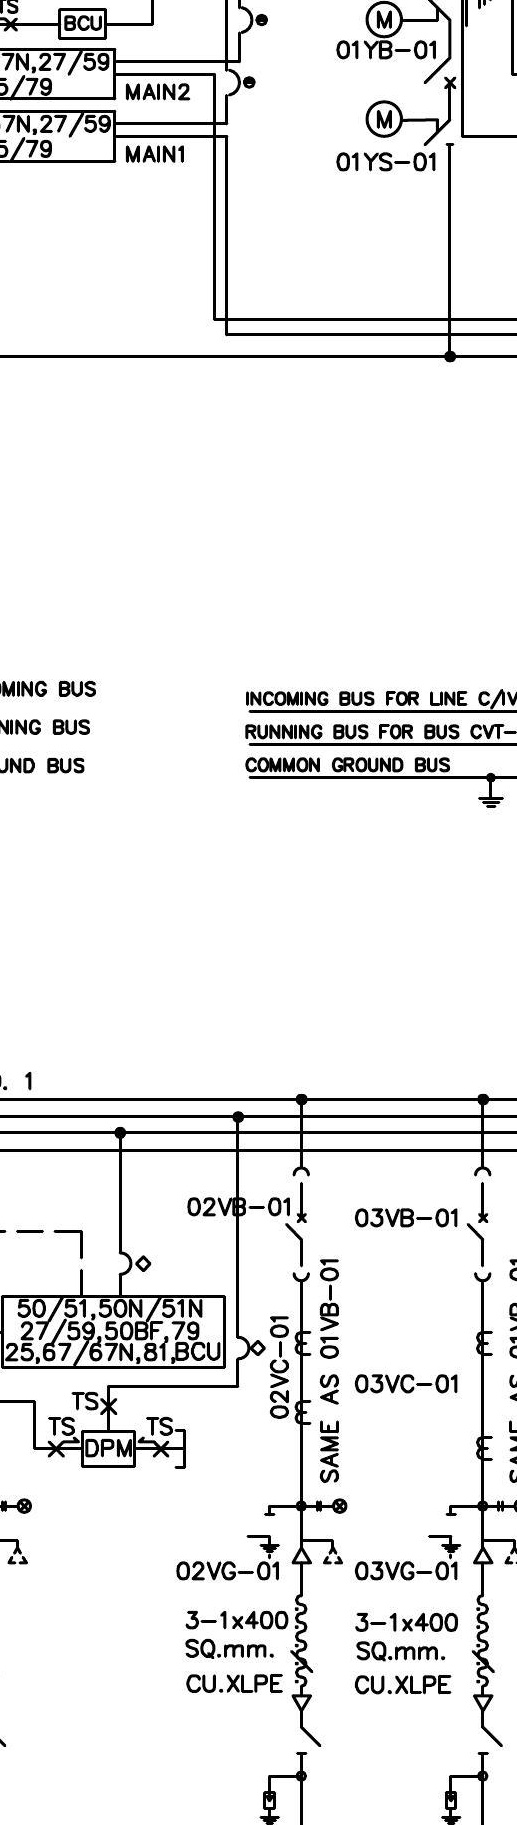115_1way_ds_w_motor: (364, 100, 455, 147)
115_breaker: (424, 57, 456, 90)
22_breaker: (284, 1166, 311, 1283), (466, 1166, 493, 1283)
22_gs: (246, 1513, 281, 1560), (427, 1513, 461, 1560)
22_ll: (0, 1498, 33, 1514), (316, 1498, 348, 1514)
BCU: (57, 7, 107, 41)
DPM: (80, 1429, 136, 1469)
terminator_single: (472, 1693, 494, 1714), (291, 1693, 312, 1714)
terminator_w_future: (291, 1538, 344, 1565)
